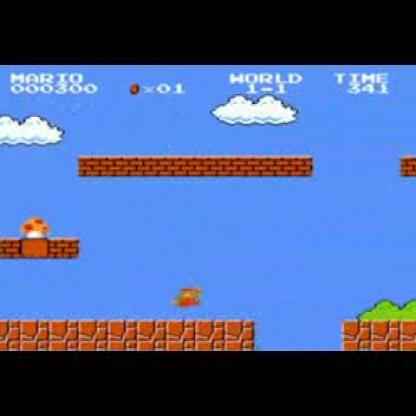Hoyo: (249, 316, 350, 350)
